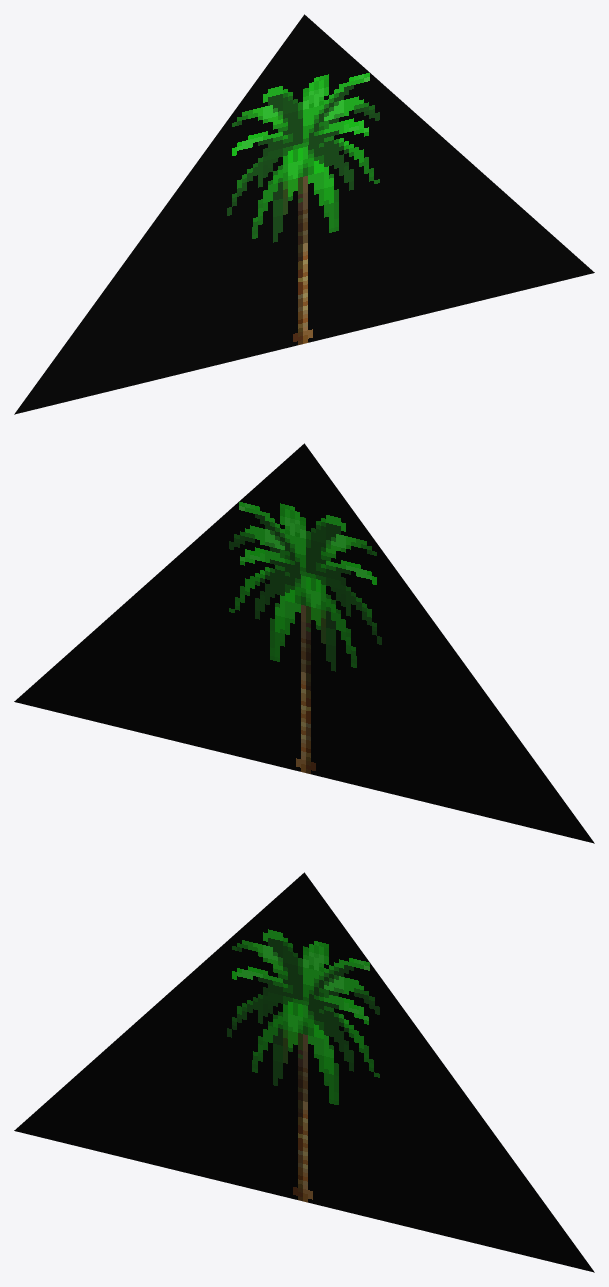
Rendered from yashi_tree.glb.
The picture shows the model from 3 angles, top to bottom: view 1: azimuth 30°, elevation 25°; view 2: azimuth 150°, elevation 25°; view 3: azimuth 330°, elevation 25°; orthographic projection.
Visible parts, largest first — view 1: yashi_tree; view 2: yashi_tree; view 3: yashi_tree.
Boxes of the visible parts, x1,y1,x2,y2 form: yashi_tree: (14,14,594,414); yashi_tree: (14,443,594,843); yashi_tree: (14,872,594,1272).
Bounding box in the file's own units: 185 × 100 × 0.
1 material, 1 textured.
